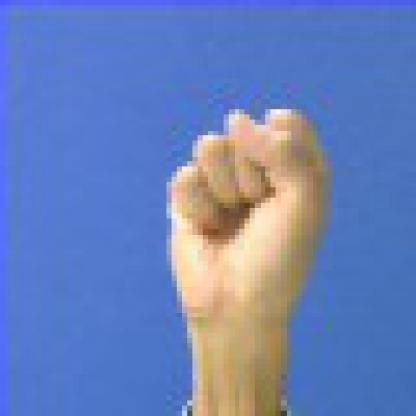zero: (148, 96, 354, 342)
